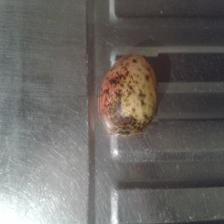Mango Semirotten: (97, 47, 158, 136)
